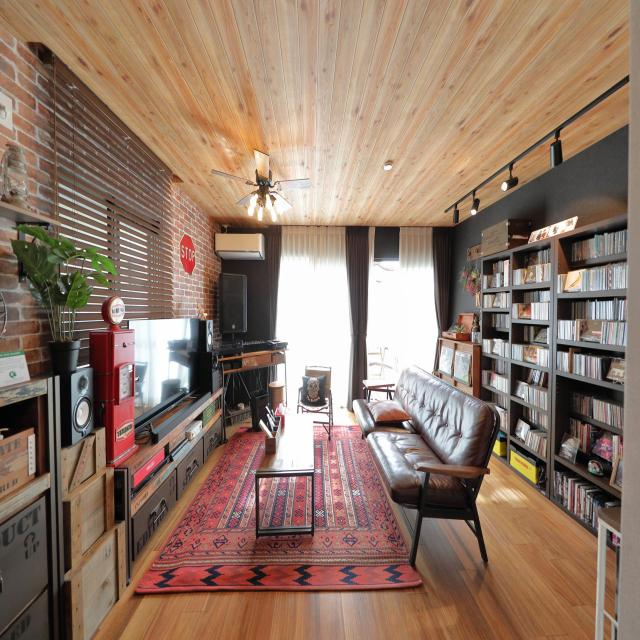vintage chair: (298, 357, 335, 434)
vintage desk: (254, 413, 315, 534)
vintage shelf: (437, 325, 478, 391)
vintage sofa: (348, 360, 496, 567)
